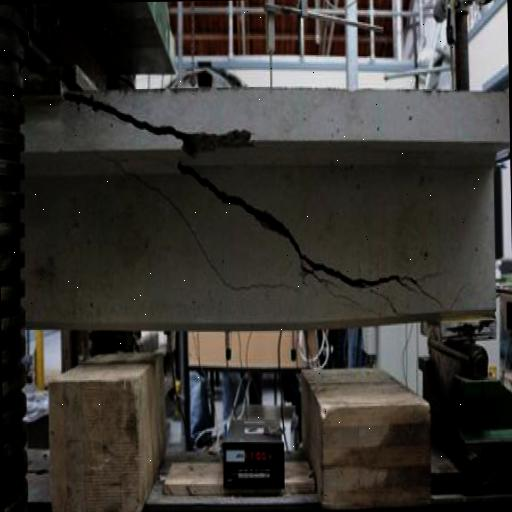spalling: (176, 161, 438, 308), (115, 157, 296, 305), (64, 93, 257, 155)
